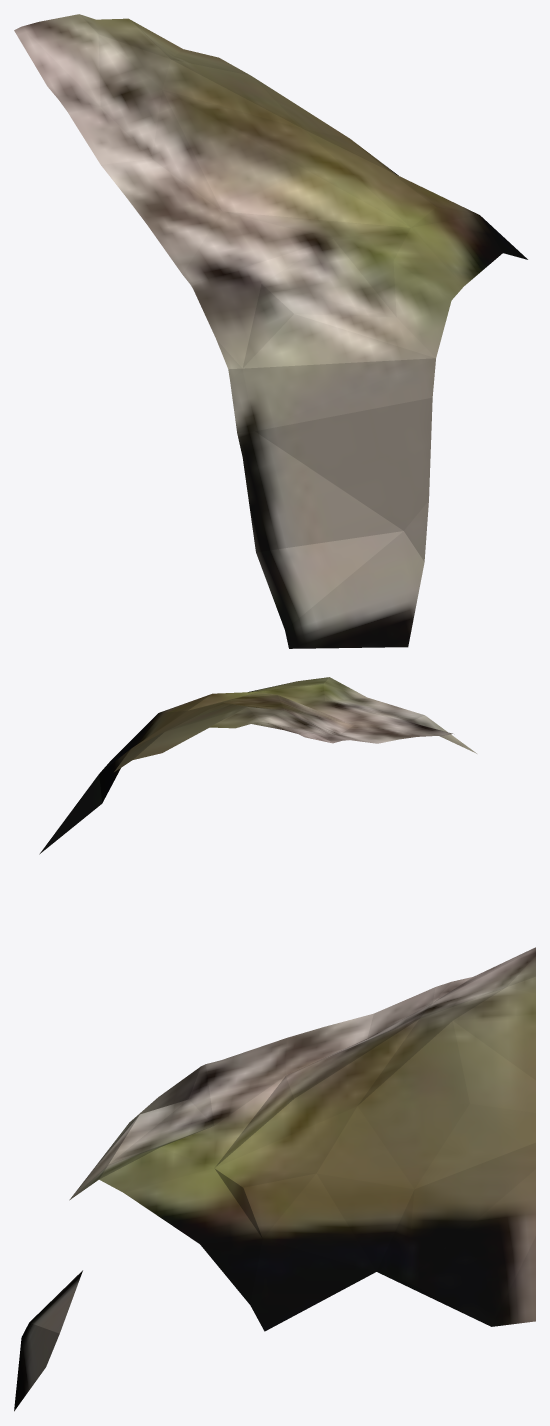
3 views of the same model, one above another, from view 1: azimuth 30°, elevation 25°; view 2: azimuth 150°, elevation 25°; view 3: azimuth 270°, elevation 25° (orthographic). The views are drawn at different scales.
Size of the model in its own units: 2.52 by 2.83 by 3.23.
1 material, 1 textured.
